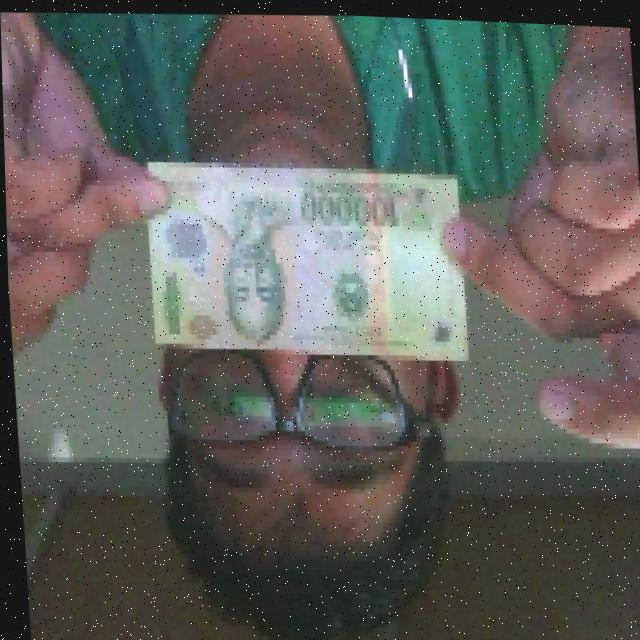100 000 VND: (133, 144, 472, 377)
